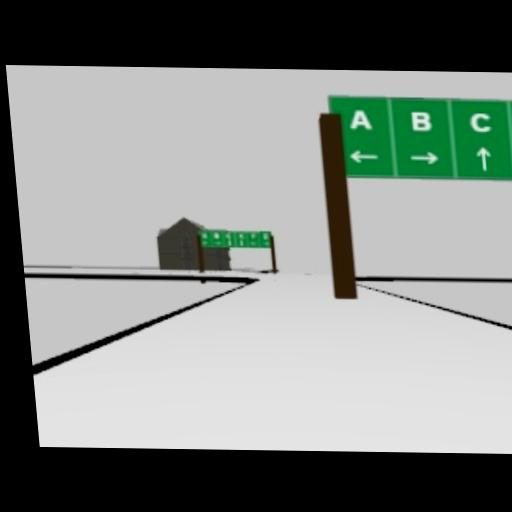A: (347, 109, 373, 131)
B: (409, 109, 435, 133)
C: (468, 111, 497, 135)
Left: (348, 148, 383, 166)
Right: (407, 150, 442, 166)
Straight: (475, 145, 494, 173)
